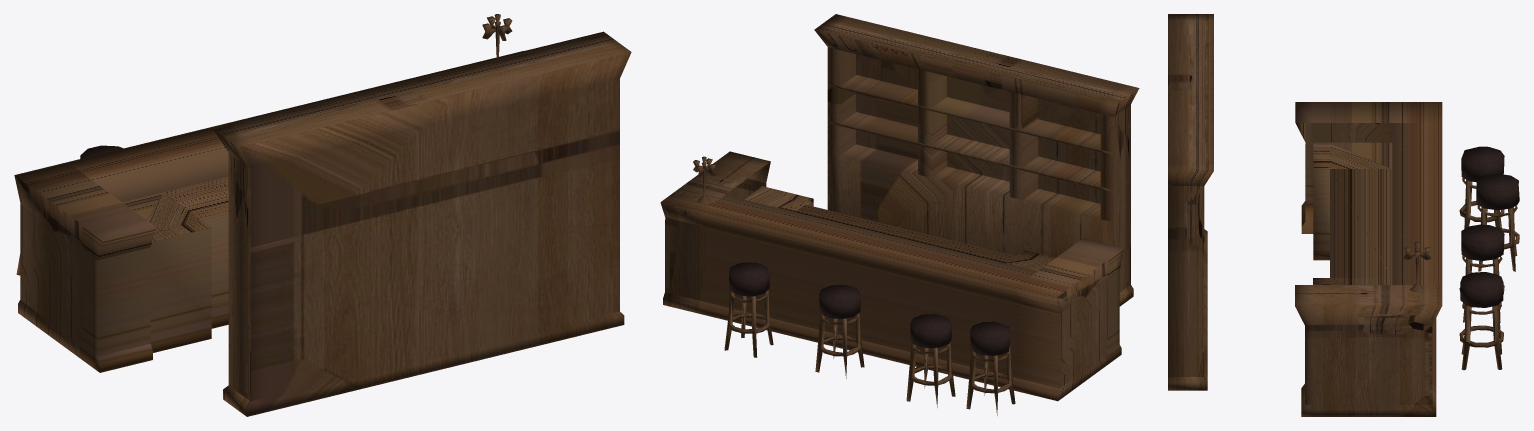
The model's file is bar_cafe_de_normandy_collision.fbx.
The picture shows the model from 3 angles, left to right: view 1: azimuth 30°, elevation 25°; view 2: azimuth 150°, elevation 25°; view 3: azimuth 270°, elevation 25°; orthographic projection. The views are drawn at different scales.
Parts seen in each view (by area): view 1: Cube.003, Cube.028, Cube.029, Cube.017, Cube.021, Cube.022, Cube.018, Cube.034, Cube.031, Cube.015, Cube.033, Cube.030 (+4 smaller); view 2: Cube.028, Cube.002, Cube.018, Cube.029, Cube.003, Cube.017, Cube.022, Cube.027, Cube.026, Cube.016, Cube.023, Cube.031 (+17 smaller); view 3: Cube.016, Cube.018, Cube.029, Cube.015, Cube.023, Cube.032, Cube.021, Cube.022, Cube.028, Cube.017, Cube.025, Cube.010 (+10 smaller).
Boxes of the visible parts, x1=… form: Cube.003: x1=267, y1=83, x2=603, y2=300; Cube.028: x1=228, y1=215, x2=619, y2=401; Cube.029: x1=212, y1=31, x2=631, y2=168; Cube.017: x1=20, y1=203, x2=150, y2=356; Cube.021: x1=122, y1=192, x2=211, y2=352; Cube.022: x1=14, y1=162, x2=156, y2=259; Cube.018: x1=67, y1=64, x2=469, y2=202; Cube.034: x1=223, y1=311, x2=624, y2=416; Cube.031: x1=228, y1=153, x2=267, y2=304; Cube.015: x1=164, y1=176, x2=228, y2=328; Cube.033: x1=486, y1=107, x2=503, y2=247; Cube.030: x1=368, y1=136, x2=385, y2=276; Cube.028: x1=827, y1=144, x2=1130, y2=292; Cube.002: x1=706, y1=227, x2=1018, y2=378; Cube.018: x1=701, y1=195, x2=1037, y2=303; Cube.029: x1=814, y1=14, x2=1139, y2=116; Cube.003: x1=856, y1=54, x2=1100, y2=203; Cube.017: x1=1018, y1=270, x2=1119, y2=388; Cube.022: x1=1014, y1=238, x2=1124, y2=313; Cube.027: x1=827, y1=112, x2=1130, y2=192; Cube.026: x1=827, y1=75, x2=1130, y2=155; Cube.016: x1=665, y1=179, x2=766, y2=301; Cube.023: x1=660, y1=151, x2=770, y2=227; Cube.031: x1=1100, y1=104, x2=1130, y2=222; Cube.016: x1=1305, y1=325, x2=1432, y2=404; Cube.018: x1=1392, y1=123, x2=1442, y2=284; Cube.029: x1=1168, y1=14, x2=1213, y2=185; Cube.015: x1=1330, y1=169, x2=1392, y2=277; Cube.023: x1=1295, y1=285, x2=1442, y2=325; Cube.032: x1=1168, y1=186, x2=1204, y2=297; Cube.021: x1=1313, y1=142, x2=1392, y2=260; Cube.022: x1=1295, y1=102, x2=1442, y2=142; Cube.028: x1=1168, y1=297, x2=1204, y2=376; Cube.017: x1=1305, y1=123, x2=1392, y2=200; Cube.025: x1=1301, y1=384, x2=1436, y2=416; Cube.010: x1=1461, y1=224, x2=1504, y2=260.
Size of the model in its own units: 433 by 220 by 315.
